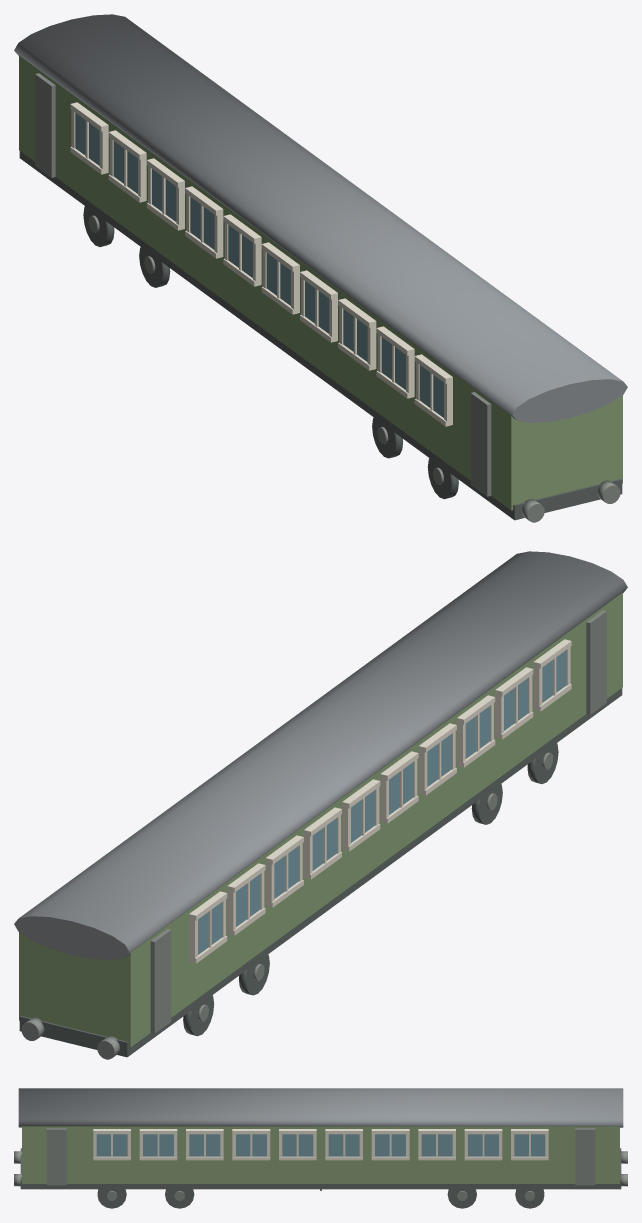
File: tyne-modern-coach_lod0.glb
3 renders of one model, top to bottom at view 1: azimuth 30°, elevation 25°; view 2: azimuth 150°, elevation 25°; view 3: azimuth 270°, elevation 25°, orthographic. The views are drawn at different scales.
Visible parts, largest first — view 1: RF_CoachRoof, RF_CoachBody, RF_RoofLowerMask, RF_Chassis, RF_CarDoor.001, RF_CarDoor.002, RF_Window.001, RF_Window.004, RF_Window.007, RF_Window.008, RF_Window.002, RF_Window.006 (+4 smaller); view 2: RF_CoachRoof, RF_CoachBody, RF_RoofLowerMask, RF_Chassis, RF_CarDoor.002, RF_CarDoor.001, RF_Window.010, RF_Window.007, RF_Window.003, RF_Window.004, RF_Window.001, RF_Window.005 (+4 smaller); view 3: RF_CoachRoof, RF_CoachBody, RF_RoofLowerMask, RF_Chassis, RF_CarDoor.003, RF_CarDoor, RF_Window.015, RF_Window.016, RF_Window.011, RF_Window.012, RF_Window.013, RF_Window.014 (+18 smaller).
Boxes of the visible parts, left/top/right/bottom form: RF_CoachRoof: left=14, top=14, right=627, bottom=422; RF_CoachBody: left=19, top=55, right=622, bottom=510; RF_RoofLowerMask: left=19, top=56, right=622, bottom=468; RF_Chassis: left=19, top=151, right=622, bottom=520; RF_CarDoor.001: left=470, top=392, right=491, bottom=496; RF_CarDoor.002: left=35, top=73, right=55, bottom=177; RF_Window.001: left=419, top=365, right=443, bottom=417; RF_Window.004: left=305, top=281, right=329, bottom=333; RF_Window.007: left=190, top=197, right=214, bottom=249; RF_Window.008: left=152, top=169, right=176, bottom=221; RF_Window.002: left=381, top=337, right=405, bottom=389; RF_Window.006: left=228, top=225, right=252, bottom=277; RF_CoachRoof: left=14, top=551, right=627, bottom=959; RF_CoachBody: left=19, top=592, right=622, bottom=1047; RF_RoofLowerMask: left=19, top=594, right=622, bottom=1005; RF_Chassis: left=19, top=688, right=622, bottom=1057; RF_CarDoor.002: left=150, top=929, right=171, bottom=1033; RF_CarDoor.001: left=586, top=610, right=606, bottom=714; RF_Window.010: left=198, top=902, right=222, bottom=954; RF_Window.007: left=312, top=818, right=336, bottom=870; RF_Window.003: left=465, top=706, right=489, bottom=758; RF_Window.004: left=427, top=734, right=451, bottom=786; RF_Window.001: left=542, top=650, right=566, bottom=702; RF_Window.005: left=389, top=762, right=413, bottom=814; RF_CoachRoof: left=18, top=1088, right=623, bottom=1127; RF_CoachBody: left=22, top=1126, right=619, bottom=1183; RF_RoofLowerMask: left=22, top=1126, right=619, bottom=1158; RF_Chassis: left=20, top=1148, right=621, bottom=1189; RF_CarDoor.003: left=46, top=1128, right=66, bottom=1185; RF_CarDoor: left=575, top=1128, right=595, bottom=1185; RF_Window.015: left=282, top=1134, right=313, bottom=1156; RF_Window.016: left=328, top=1134, right=359, bottom=1156; RF_Window.011: left=96, top=1134, right=127, bottom=1156; RF_Window.012: left=143, top=1134, right=173, bottom=1156; RF_Window.013: left=189, top=1134, right=220, bottom=1156; RF_Window.014: left=236, top=1134, right=266, bottom=1156.
Size of the model in its own units: 3.16 by 3.76 by 21.98.
